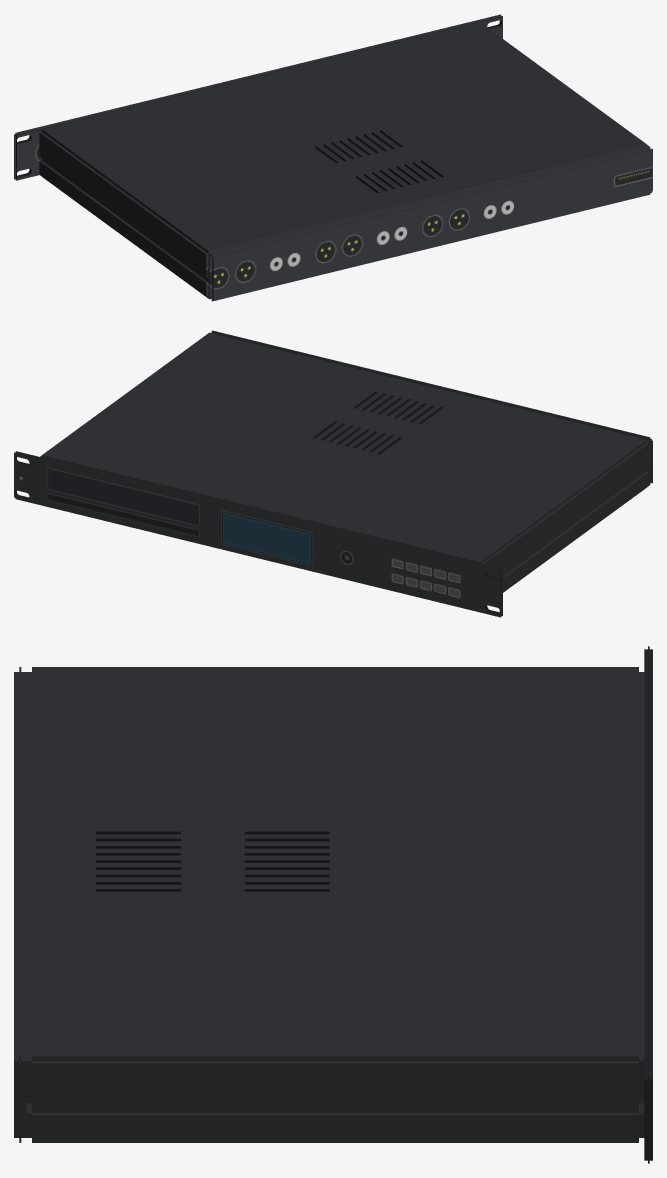
The model's file is tascam-ss-cdr250n.glb.
The picture shows the model from 3 angles, top to bottom: view 1: azimuth 30°, elevation 25°; view 2: azimuth 150°, elevation 25°; view 3: azimuth 270°, elevation 25°; orthographic projection. The views are drawn at different scales.
Visible parts, largest first — view 1: tascam-ss-cdr250n-body; view 2: tascam-ss-cdr250n-body; view 3: tascam-ss-cdr250n-body.
Boxes of the visible parts, x1=… form: tascam-ss-cdr250n-body: x1=14, y1=14, x2=652, y2=301; tascam-ss-cdr250n-body: x1=14, y1=330, x2=652, y2=617; tascam-ss-cdr250n-body: x1=14, y1=646, x2=652, y2=1163.
Bounding box in the file's own units: 0.4826 × 0.045 × 0.3005.
Materials: 1 (1 with a texture image).
